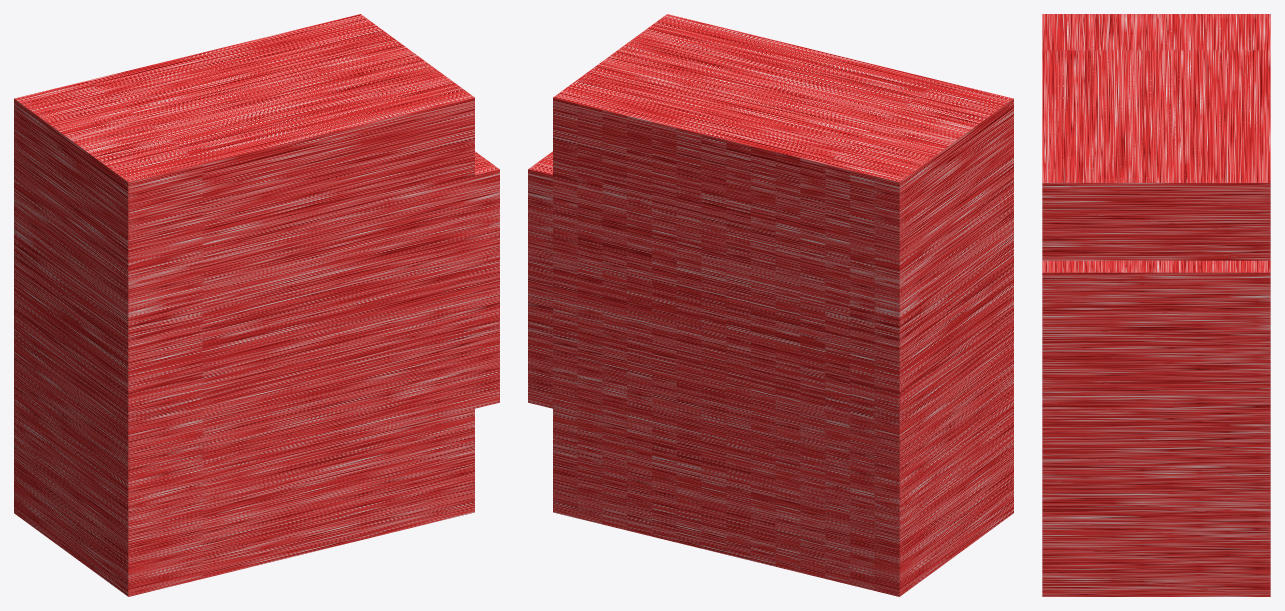
Rendered from tier3_piece_12.obj.
3 views of the same model, side by side, from view 1: azimuth 30°, elevation 25°; view 2: azimuth 150°, elevation 25°; view 3: azimuth 270°, elevation 25° (orthographic).
Parts seen in each view (by area): view 1: tier3_piece_12; view 2: tier3_piece_12; view 3: tier3_piece_12.
Part boxes in pixels (x1,y1,x2,y2): tier3_piece_12: (14, 14, 499, 596); tier3_piece_12: (528, 14, 1013, 596); tier3_piece_12: (1042, 14, 1270, 596).
Size of the model in its own units: 0.9375 by 1 by 0.5.
